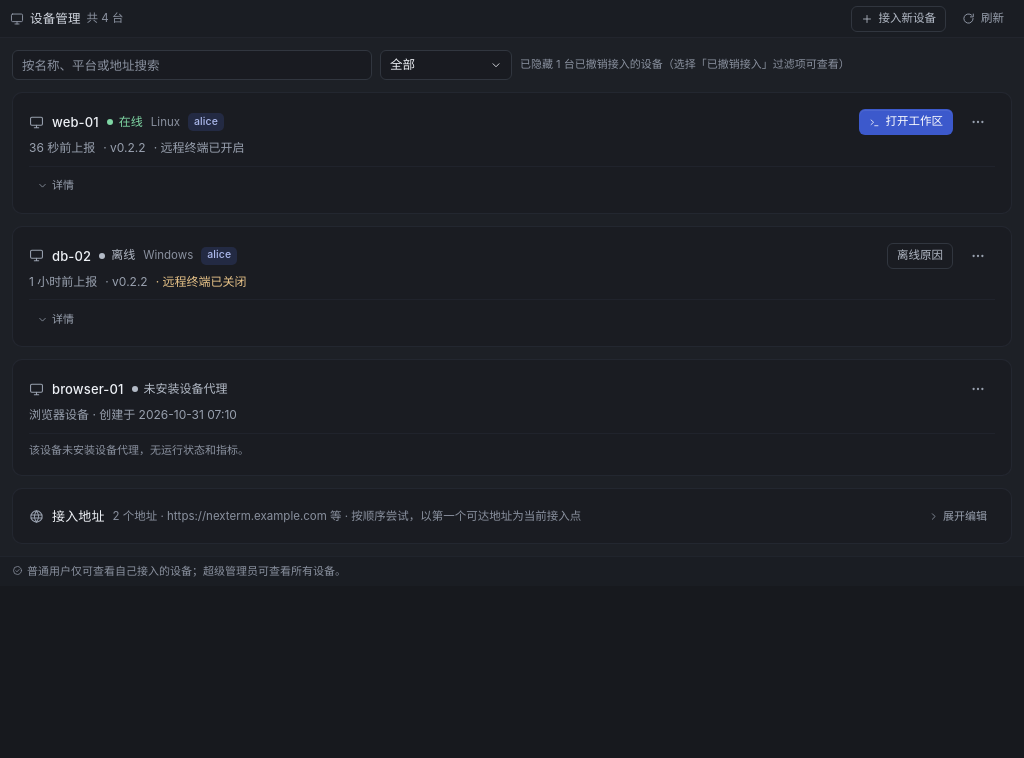
Device management view - device list and metrics › shows offline badges and offline autostart hints for offline devices
Expected: the element with class "nx-card" shows "离线", [111,247,135,262]
Expected: the button "离线原因" is shown, [887,243,953,269]
Click the button "详情" below "1 小时前". click: x=56, y=319
box: [29,308,82,330]
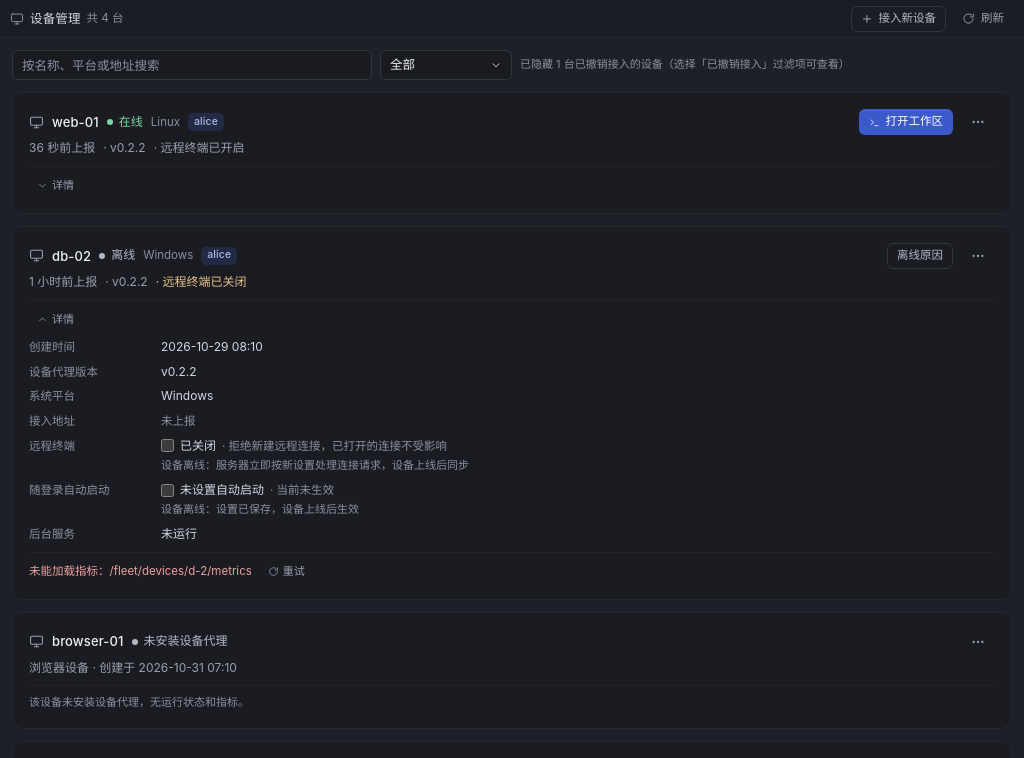
Now the element with class "nx-card" shows "设备离线：设置已保存，设备上线后生效", box [161,502,359,516]
Now the element with class "nx-card" shows "未运行", box [161,526,197,541]
